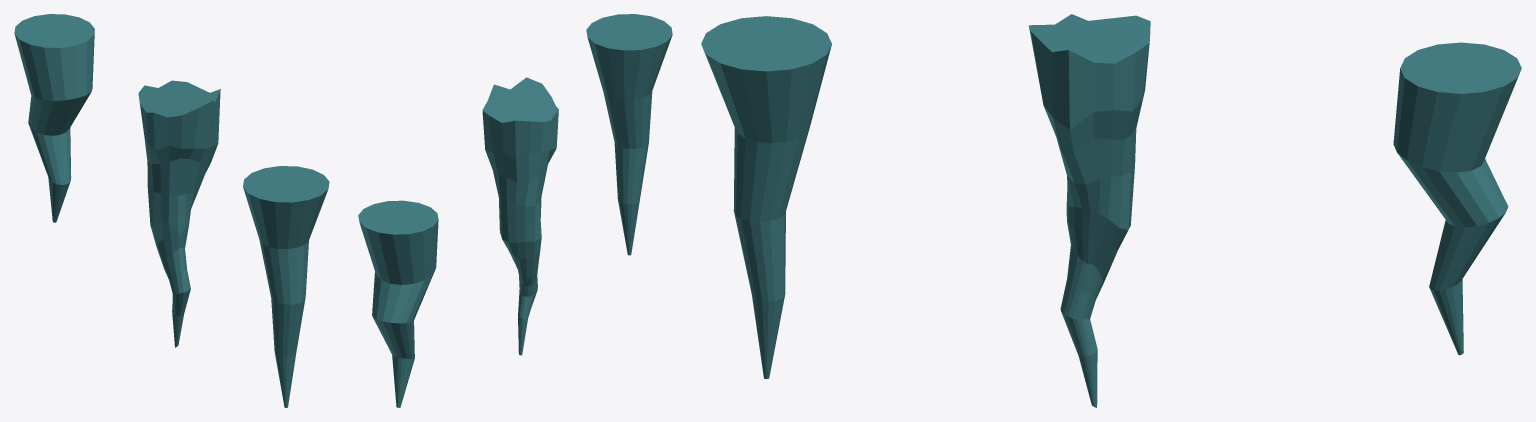
The model's file is Eiszapfen.glb.
The picture shows the model from 3 angles, left to right: view 1: azimuth 30°, elevation 25°; view 2: azimuth 150°, elevation 25°; view 3: azimuth 270°, elevation 25°; orthographic projection. The views are drawn at different scales.
Parts seen in each view (by area): view 1: Cylinder, Cylinder.002, Cylinder.001; view 2: Cylinder, Cylinder.002, Cylinder.001; view 3: Cylinder, Cylinder.002, Cylinder.001.
Part boxes in pixels (box(x1,y1,x2,y2)): Cylinder: box(138, 80, 220, 347); Cylinder.002: box(243, 166, 329, 407); Cylinder.001: box(14, 14, 94, 222); Cylinder: box(482, 77, 558, 355); Cylinder.002: box(586, 14, 672, 255); Cylinder.001: box(358, 200, 438, 407); Cylinder: box(1028, 14, 1150, 407); Cylinder.002: box(701, 16, 831, 379); Cylinder.001: box(1393, 42, 1521, 355).
Size of the model in its own units: 2.15 by 7.04 by 13.49.
